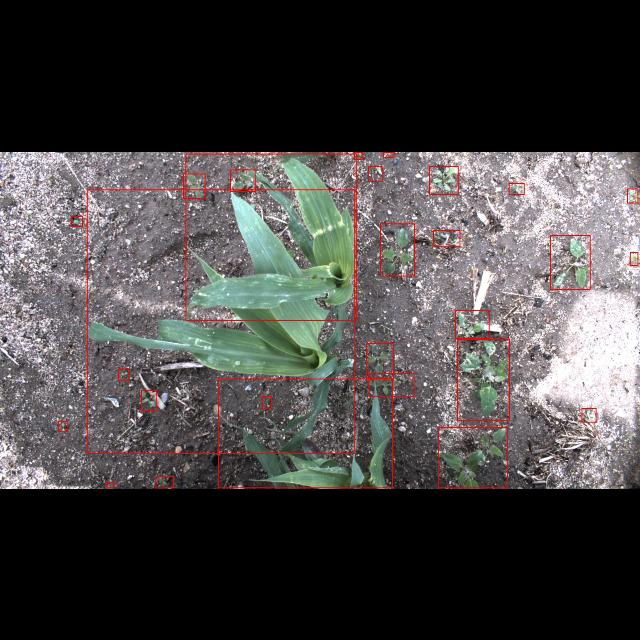crop: (87, 189, 355, 453), (186, 153, 356, 320), (219, 378, 393, 488)
weed: (438, 427, 508, 487), (457, 340, 509, 420), (550, 235, 590, 289), (380, 223, 414, 275), (368, 374, 414, 396), (366, 342, 394, 378), (455, 310, 489, 338), (429, 165, 458, 193), (183, 172, 205, 198), (230, 169, 256, 191), (434, 229, 461, 245), (141, 390, 157, 410), (156, 477, 174, 488), (368, 166, 382, 180), (582, 408, 596, 422), (508, 182, 524, 194), (626, 188, 638, 202), (262, 396, 272, 408), (119, 368, 129, 379), (72, 215, 82, 225), (58, 421, 68, 431), (630, 252, 638, 264), (354, 152, 364, 158), (106, 482, 114, 488), (384, 152, 394, 156)
